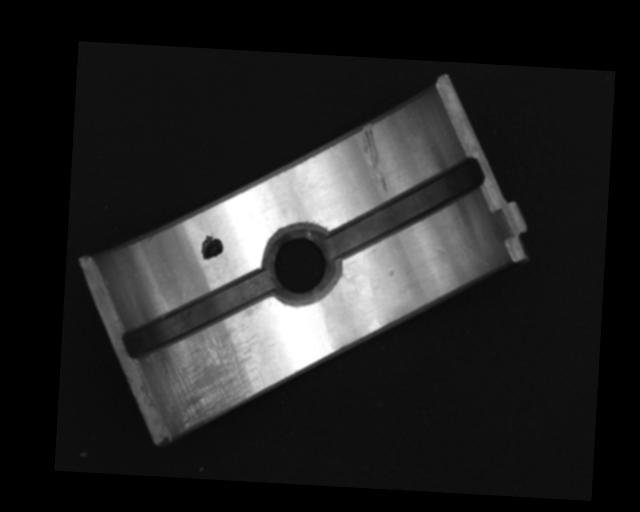blot: (199, 233, 225, 262)
bruise: (387, 265, 395, 277)
gap: (326, 152, 483, 267), (121, 262, 275, 365)
hole: (263, 223, 340, 308)
nick: (357, 121, 391, 193)
scratch: (157, 319, 267, 434)
